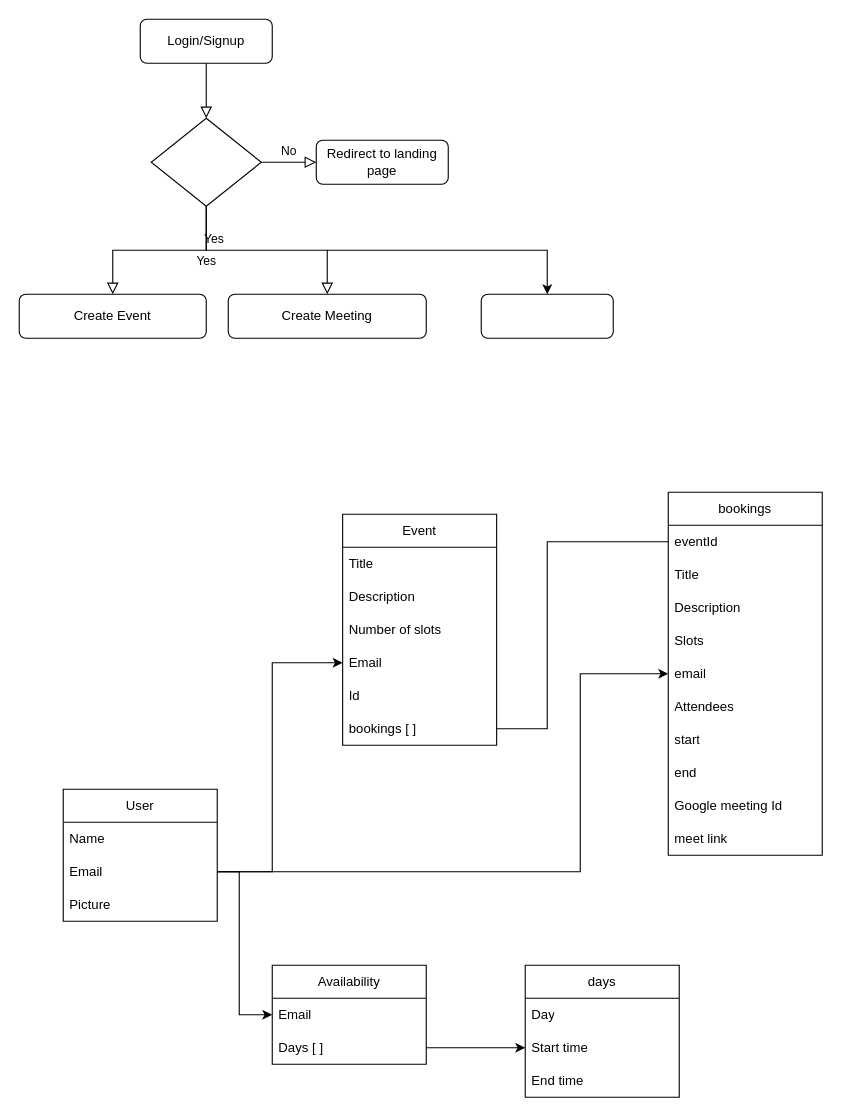
This 842x1117 diagram has some shape labels left out. Each missing label, with the centre of its shape:
"Dashboard" belongs at point 546,315.
"Logged In" belongs at point 205,161.
